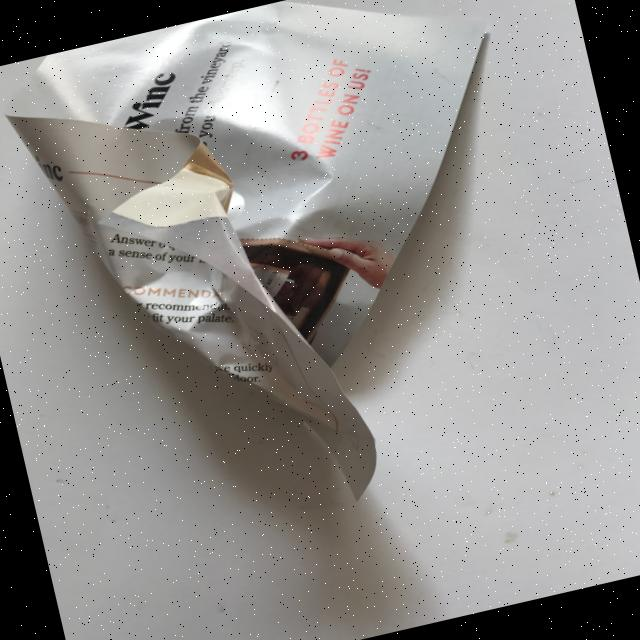paper: (0, 0, 585, 557)
